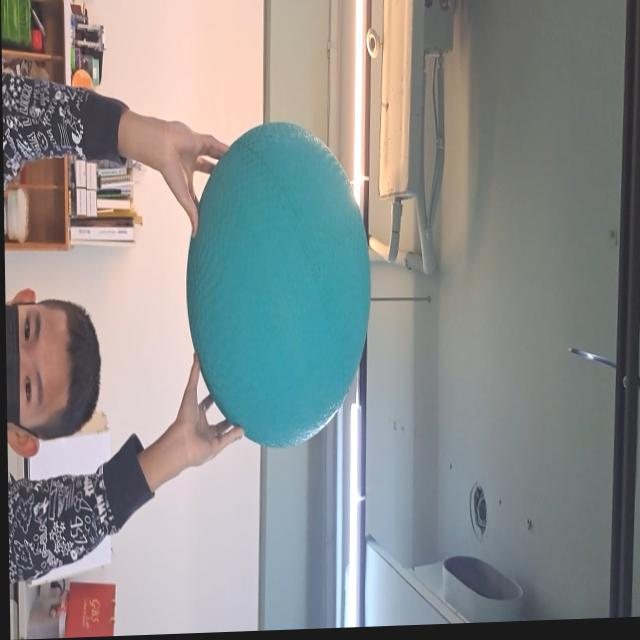ALGAE: (182, 122, 372, 453)
